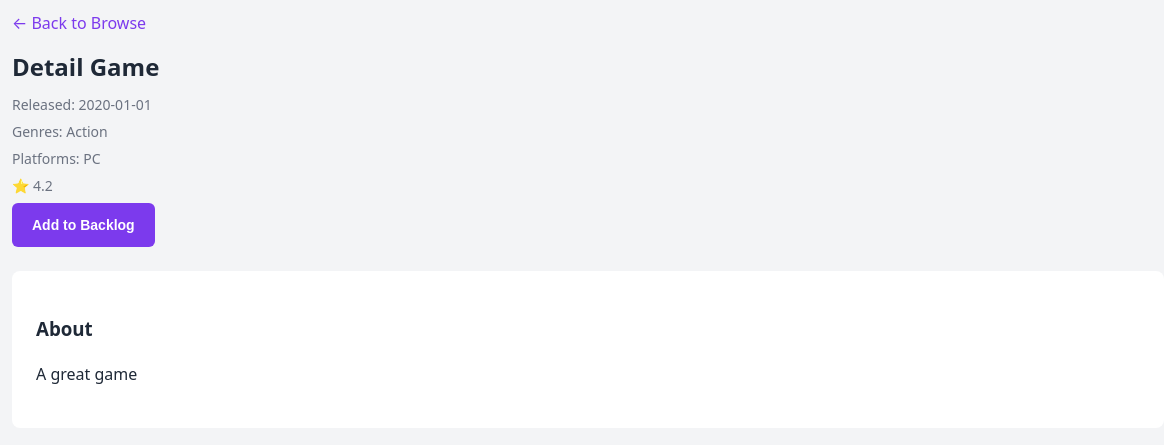
GameDetailsPage › adds and removes the game from the backlog
The image size is (1164, 445).
Click the button "Add to Backlog" at (83, 225), box [12, 203, 155, 247]
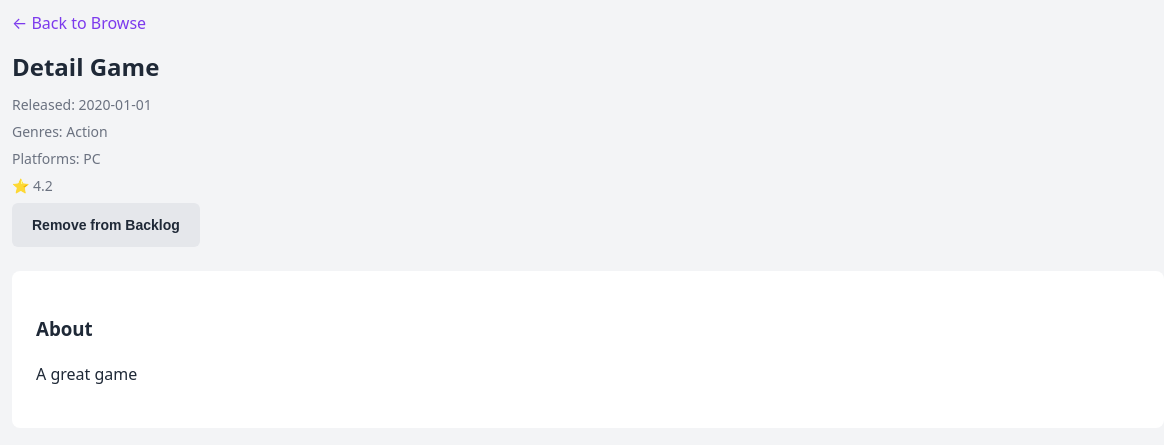
Now the button "Remove from Backlog" is shown
Click the button "Remove from Backlog" at (106, 225), box [12, 203, 200, 247]
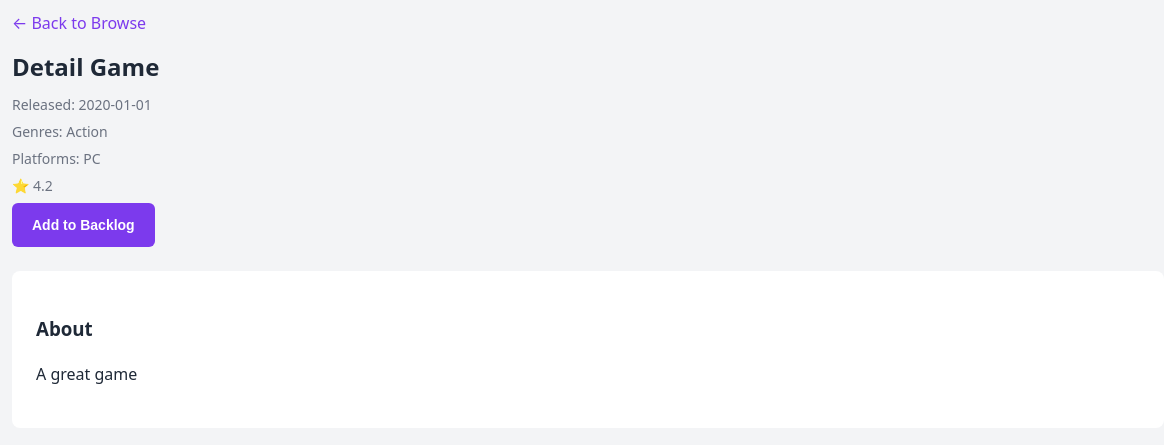
Now the button "Add to Backlog" is shown, box [12, 203, 155, 247]
